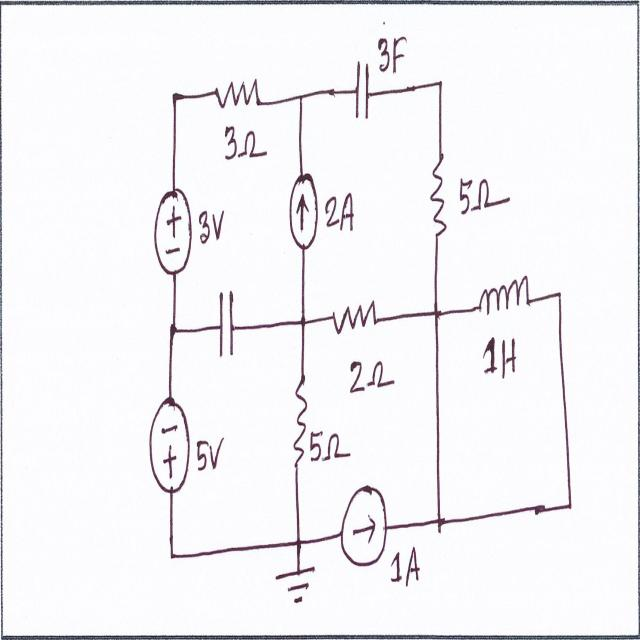capacitor: (213, 275, 239, 363), (352, 49, 374, 135)
current_source: (335, 486, 391, 572), (286, 167, 323, 269)
ground: (272, 561, 321, 612)
inductor: (474, 260, 535, 324)
resistor: (330, 286, 381, 340), (426, 144, 449, 245), (211, 78, 261, 122), (290, 370, 310, 474)
voltage_source: (144, 383, 190, 504), (154, 182, 197, 288)
